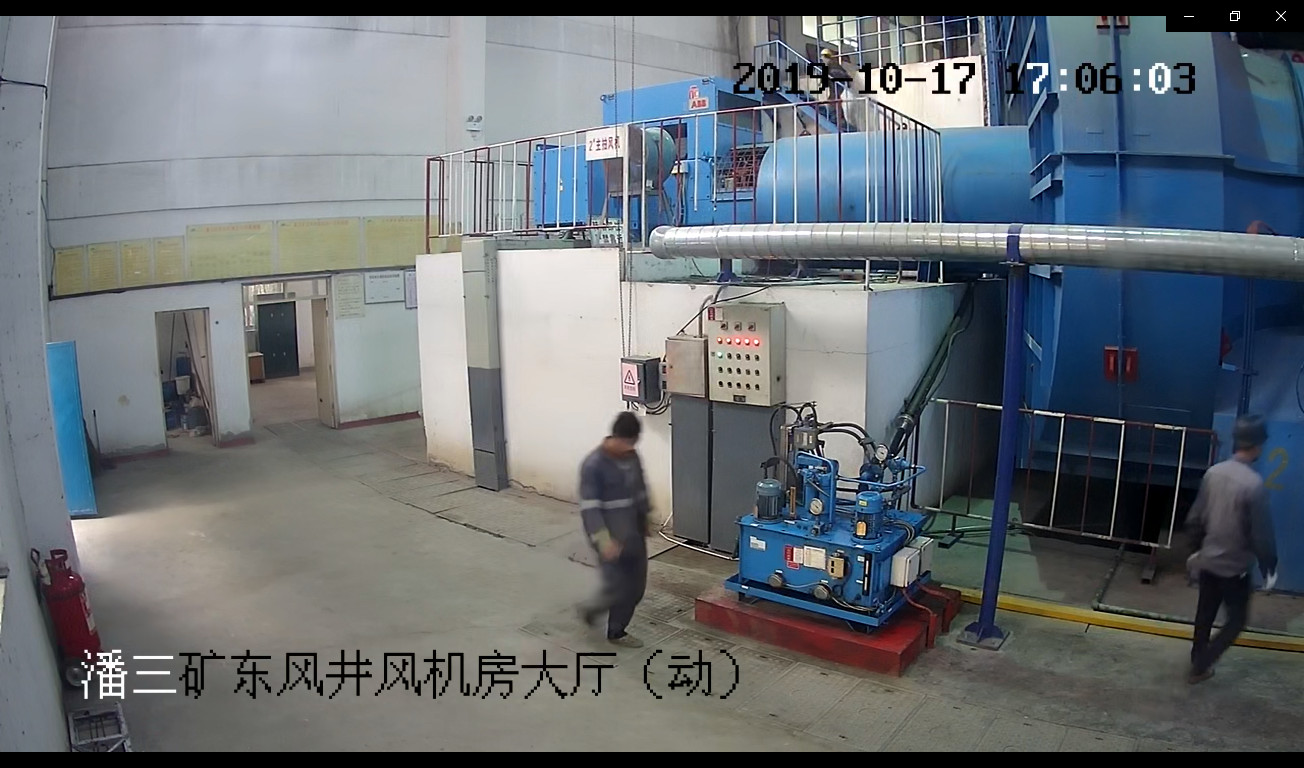helmet: (1233, 413, 1268, 447)
